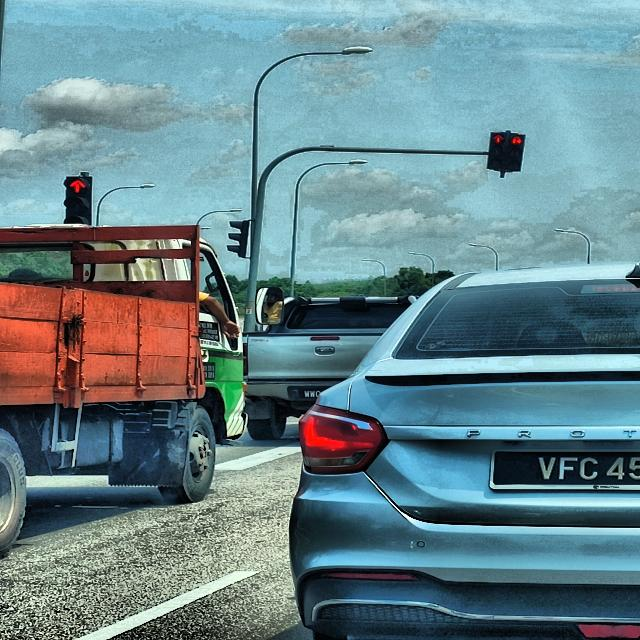red: (64, 177, 92, 228), (487, 131, 511, 170), (507, 132, 526, 172)
